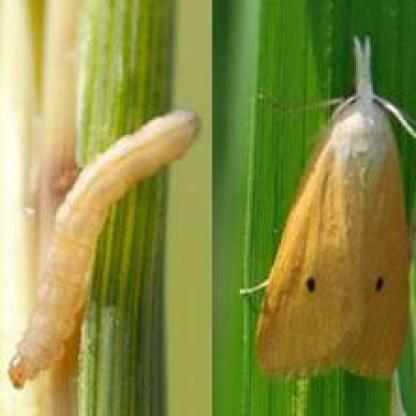stem-borer: (251, 30, 416, 385)
